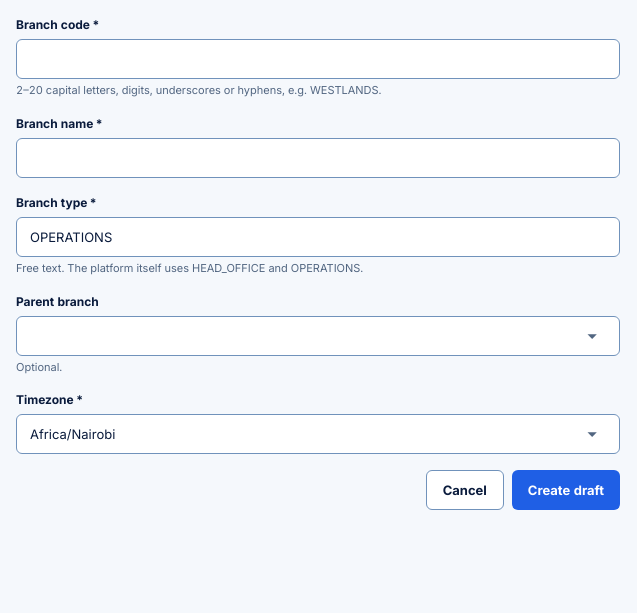
Test: BranchDraftForm › shows an error summary naming every invalid field on a client validation failure (V2)
Note: Code fails the regex and name is left blank (fails min-length): two client errors.
In the field labelled "Branch code": (318, 59) [16,39,620,79], type "nairobi cbd"
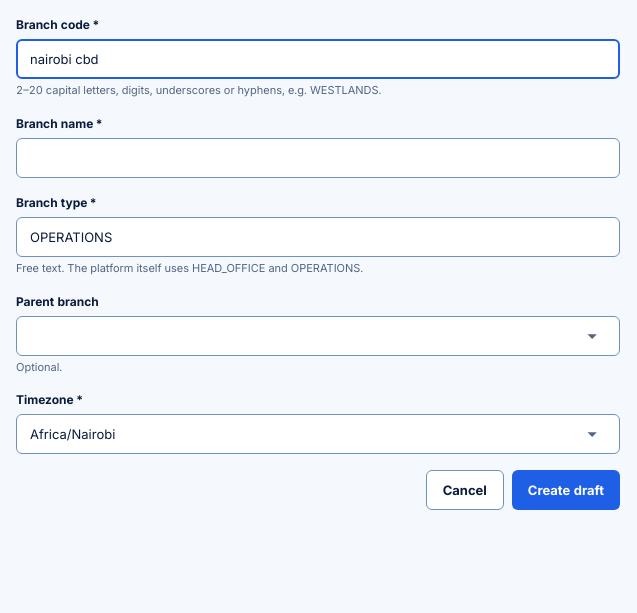
Click the button "Create draft": click(566, 490) [512,470,620,510]
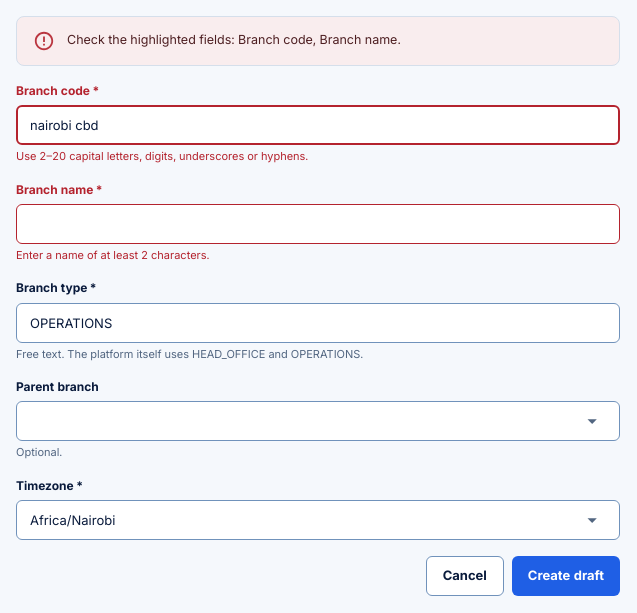
Result: the message shows "Branch code" at [238,32,397,47]
Result: the message shows "Branch name" at [238,32,397,47]
